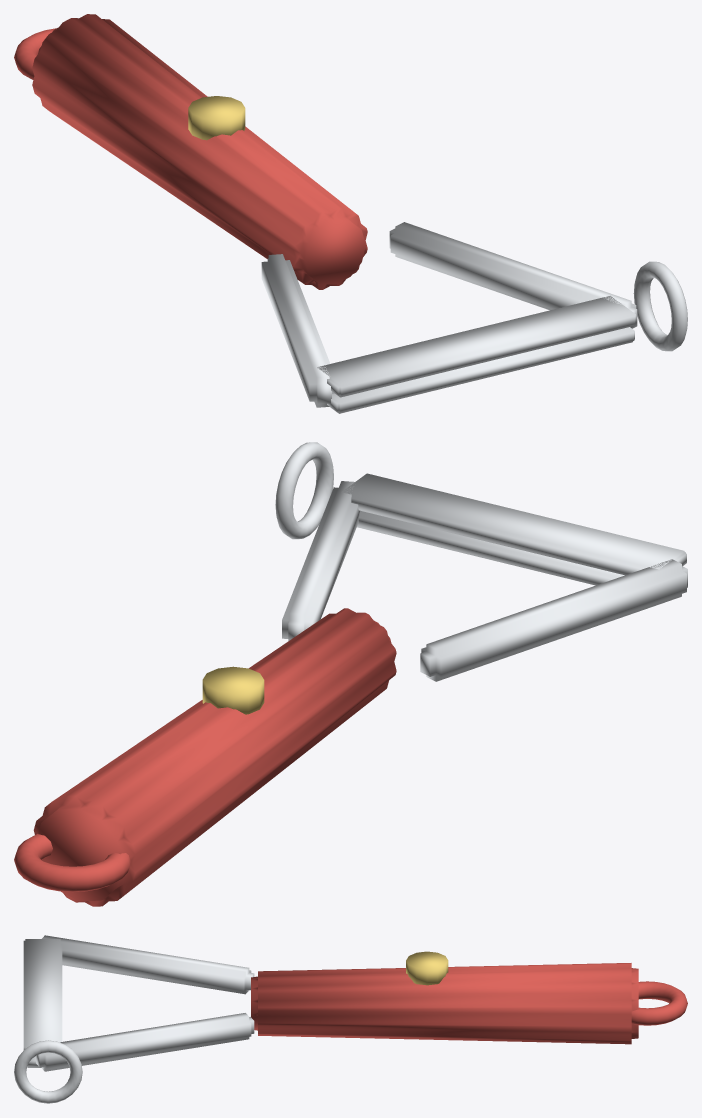
File: peeler-swivel.glb
The picture shows the model from 3 angles, top to bottom: view 1: azimuth 30°, elevation 25°; view 2: azimuth 150°, elevation 25°; view 3: azimuth 270°, elevation 25°; orthographic projection. The views are drawn at different scales.
Visible parts, largest first — view 1: Swivel_Frame, Blade_Swivel; view 2: Swivel_Frame, Blade_Swivel; view 3: Swivel_Frame, Blade_Swivel.
Boxes of the visible parts, x1,y1,x2,y2 form: Swivel_Frame: [14, 14, 687, 407]; Blade_Swivel: [317, 296, 636, 413]; Swivel_Frame: [14, 442, 687, 906]; Blade_Swivel: [341, 473, 686, 585]; Swivel_Frame: [14, 935, 687, 1103]; Blade_Swivel: [23, 939, 62, 1067].
Bounding box in the file's own units: 0.1748 × 0.0499 × 0.3825.
